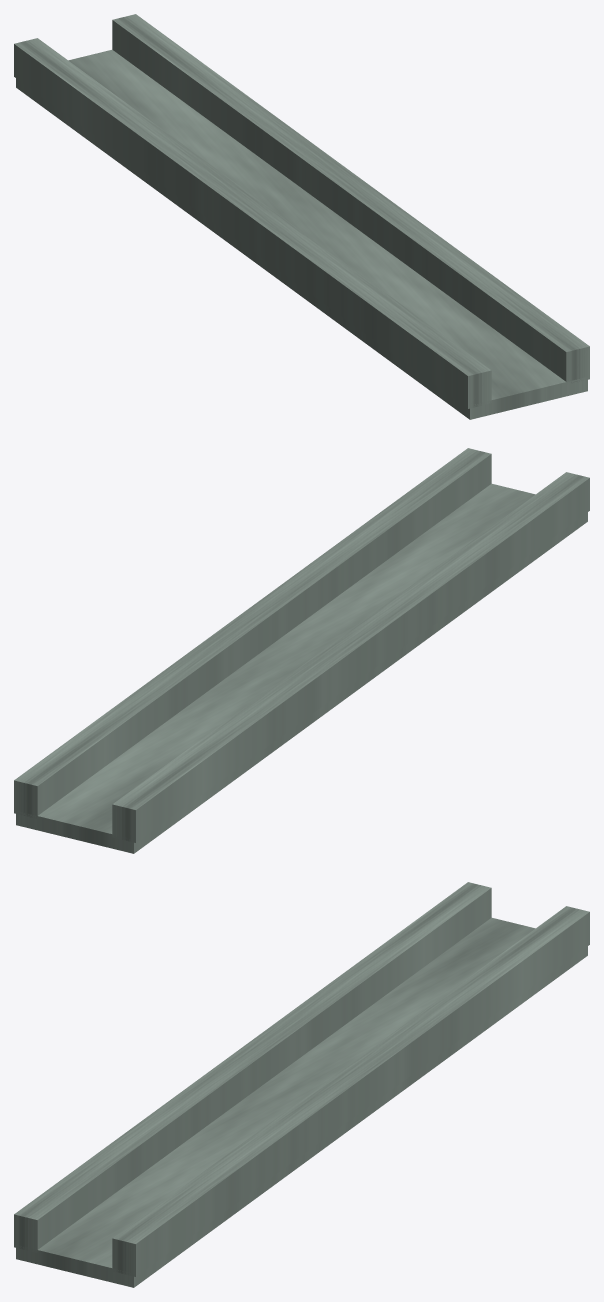
Rendered from roadside_drainage_4m.glb.
3 views of the same model, one above another, from view 1: azimuth 30°, elevation 25°; view 2: azimuth 150°, elevation 25°; view 3: azimuth 330°, elevation 25° (orthographic).
Parts seen in each view (by area): view 1: static_stone; view 2: static_stone; view 3: static_stone.
Part boxes in pixels (<box>): static_stone: <box>14,14,589,419</box>; static_stone: <box>14,448,589,853</box>; static_stone: <box>14,882,589,1287</box>.
Size of the model in its own units: 0.62 by 0.215 by 4.
1 material, 1 textured.
